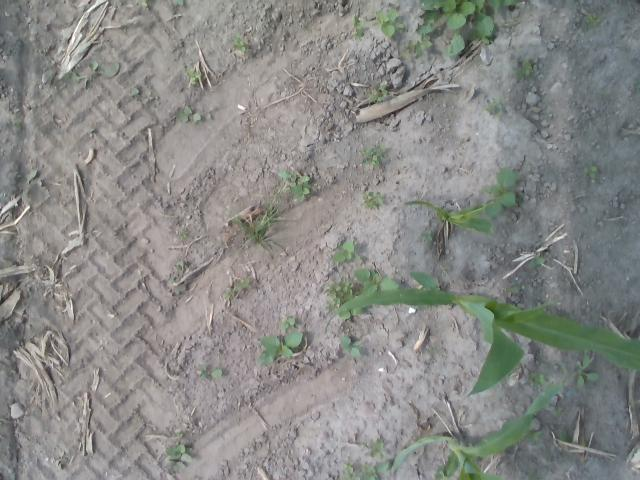Maize: (323, 269, 640, 394), (388, 361, 568, 480), (405, 199, 494, 235)
Weeds: (416, 0, 518, 56), (481, 166, 518, 216), (324, 276, 365, 319), (61, 61, 119, 89), (259, 331, 303, 364), (353, 269, 400, 294), (164, 432, 193, 470), (278, 170, 312, 201), (572, 352, 599, 388), (339, 461, 389, 480), (374, 8, 404, 38), (398, 35, 432, 60), (332, 238, 360, 262), (168, 260, 187, 294), (360, 438, 386, 459), (359, 145, 386, 164), (226, 279, 251, 299), (340, 336, 362, 358), (361, 190, 384, 210), (484, 98, 504, 120), (175, 106, 202, 122), (512, 58, 532, 78), (197, 364, 221, 380), (368, 84, 388, 103), (526, 252, 546, 270), (527, 371, 545, 389), (23, 170, 37, 193), (558, 429, 570, 455), (352, 14, 365, 38), (582, 12, 600, 28), (523, 430, 543, 444), (129, 86, 150, 99), (278, 316, 296, 330), (584, 163, 598, 180), (186, 68, 202, 82), (234, 35, 246, 52), (434, 465, 446, 480), (526, 470, 543, 480), (507, 282, 520, 294), (420, 230, 433, 242), (552, 405, 562, 415), (12, 118, 22, 128), (135, 0, 148, 7), (179, 230, 188, 240), (172, 0, 184, 6)
